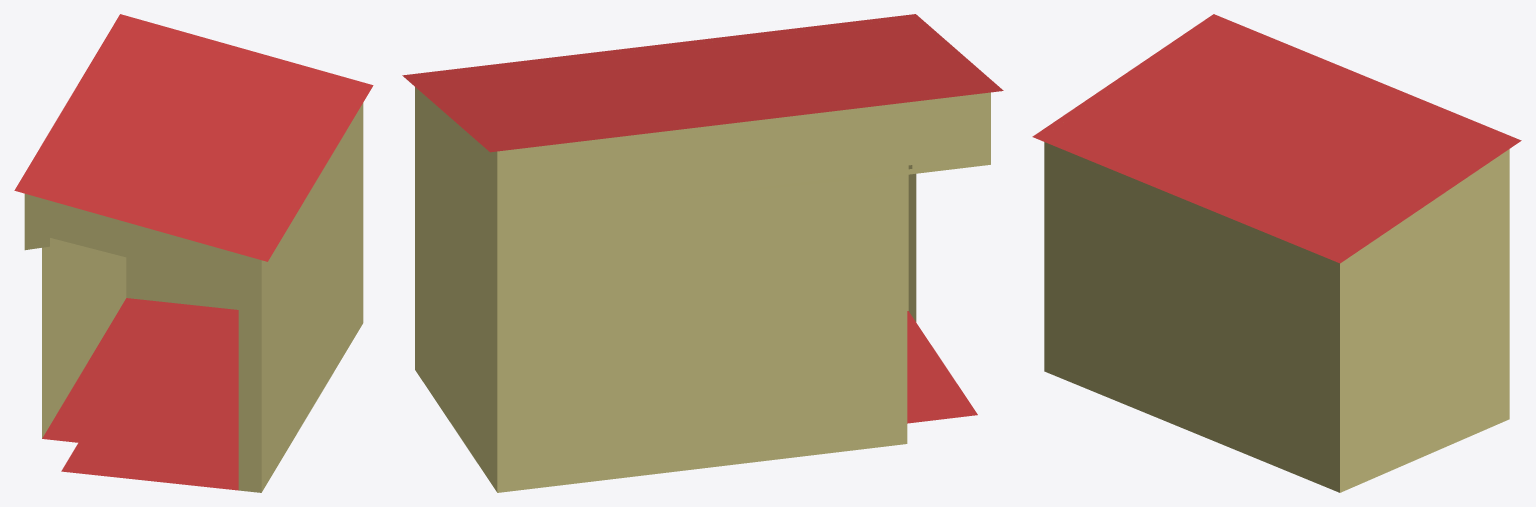
3 renders of one model, left to right at view 1: azimuth 30°, elevation 25°; view 2: azimuth 150°, elevation 25°; view 3: azimuth 270°, elevation 25°, orthographic. The views are drawn at different scales.
Bounding box in the file's own units: 14.25 × 14.35 × 9.01.
